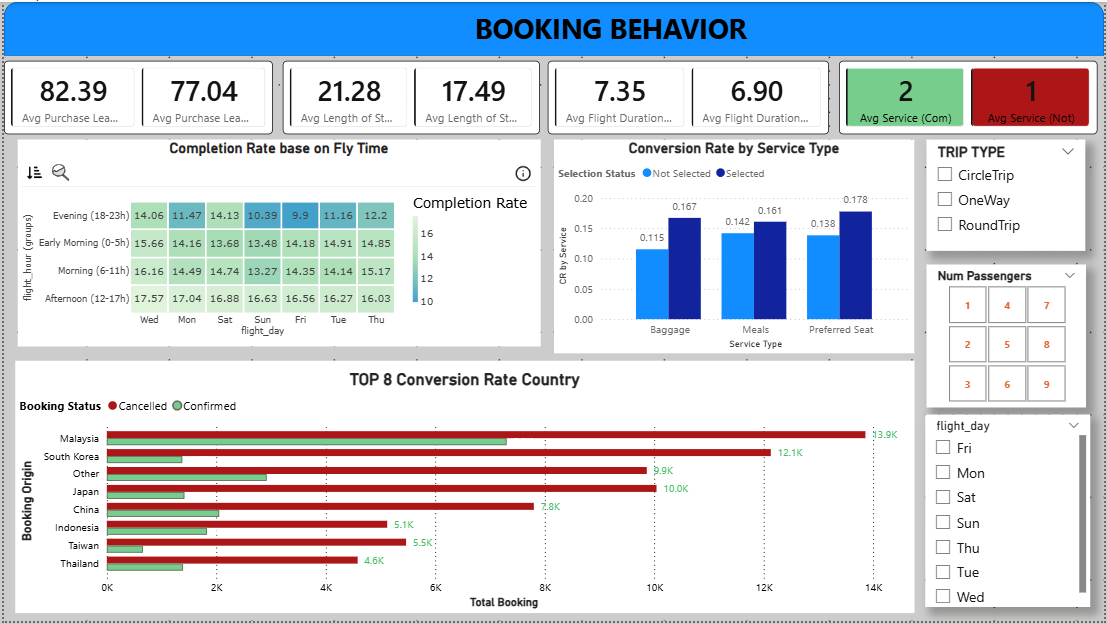

Layout of this report page (visuals, bound fields, positions):
{"tool":"powerbi","page":{"name":"Booking Behavior","canvas":[1280,720],"ordinal":1},"visuals":[{"type":"shape","box":[0,0,1280,62.7],"z":0},{"type":"textbox","box":[323.7,4.2,763.1,58.3],"z":1000},{"type":"slicer","fields":{"Values":["Final_Booking_for_Dashboard.trip_type"]},"box":[1073.8,160.3,184.6,130],"z":2000},{"type":"slicer","fields":{"Values":["Final_Booking_for_Dashboard.num_passengers"]},"box":[1073.8,304.9,185.8,166.4],"z":3000},{"type":"cardVisual","fields":{"Data":["Cleaned_Passenger_Booking.Avg Purchase Lead (Not)","Cleaned_Passenger_Booking.Avg Purchase Lead (Complete)"]},"box":[0,69.1,312.7,85.5],"z":4000},{"type":"cardVisual","fields":{"Data":["Cleaned_Passenger_Booking.Avg Length of Stay (Not)","Cleaned_Passenger_Booking.Avg Length of Stay (Complete)"]},"box":[323.6,69.1,299.1,85.5],"z":5000},{"type":"cardVisual","fields":{"Data":["Cleaned_Passenger_Booking.Avg Flight Duration (Not)","Cleaned_Passenger_Booking.Avg Flight Duration (Complete)"]},"box":[632.7,69.1,327.3,85.5],"z":6000},{"type":"cardVisual","fields":{"Data":["Final_Booking_for_Dashboard.Avg Extra Services (Complete)","Final_Booking_for_Dashboard.Avg Extra Services (Not)"]},"box":[970.9,69.1,300.9,85.5],"z":7000},{"type":"clusteredBarChart","title":"TOP 8 Conversion Rate Country","fields":{"Category":["Final_Booking_for_Dashboard.booking_origin_grouped"],"Y":["CountNonNull(Cleaned_Passenger_Booking.Booking Status)"],"Series":["Cleaned_Passenger_Booking.Booking Status"]},"box":[12.7,417.3,1046.4,293.6],"z":8000},{"type":"clusteredColumnChart","title":"Conversion by Service Category","fields":{"Category":["Final_Booking_for_Dashboard.Service Type"],"Y":["Cleaned_Passenger_Booking.CR by Service"],"Series":["Cleaned_Passenger_Booking.Selection Status"]},"box":[640,160,419.1,249.1],"z":9000},{"type":"slicer","fields":{"Values":["Cleaned_Passenger_Booking.flight_day"]},"box":[1072,480,192,224],"z":10000},{"type":"heatmap453A07F28F01EE72753E360387DD1430","title":"Completion Rate base on Fly Time","fields":{"col_2":["Cleaned_Passenger_Booking.Completion Rate"],"col_0":["Cleaned_Passenger_Booking.flight_day"],"col_1":["Cleaned_Passenger_Booking.flight_hour (groups)"]},"box":[16,160,608,240],"z":11000}]}

Visuals, with their boxes in screenshot pixels (x1, y1, x2, y2), scaled from the page's 1280x720 canvas onto the 1107x624 screenshot:
shape: rect(0, 0, 1106, 54)
textbox: rect(280, 4, 940, 54)
slicer - Final_Booking_for_Dashboard.trip_type: rect(929, 139, 1088, 252)
slicer - Final_Booking_for_Dashboard.num_passengers: rect(929, 264, 1089, 408)
cardVisual - Cleaned_Passenger_Booking.Avg Purchase Lead (Not) x Cleaned_Passenger_Booking.Avg Purchase Lead (Complete): rect(0, 60, 270, 134)
cardVisual - Cleaned_Passenger_Booking.Avg Length of Stay (Not) x Cleaned_Passenger_Booking.Avg Length of Stay (Complete): rect(280, 60, 539, 134)
cardVisual - Cleaned_Passenger_Booking.Avg Flight Duration (Not) x Cleaned_Passenger_Booking.Avg Flight Duration (Complete): rect(547, 60, 830, 134)
cardVisual - Final_Booking_for_Dashboard.Avg Extra Services (Complete) x Final_Booking_for_Dashboard.Avg Extra Services (Not): rect(840, 60, 1100, 134)
"TOP 8 Conversion Rate Country" clusteredBarChart: rect(11, 362, 916, 616)
"Conversion by Service Category" clusteredColumnChart: rect(554, 139, 916, 355)
slicer - Cleaned_Passenger_Booking.flight_day: rect(927, 416, 1093, 610)
"Completion Rate base on Fly Time" heatmap453A07F28F01EE72753E360387DD1430: rect(14, 139, 540, 347)
